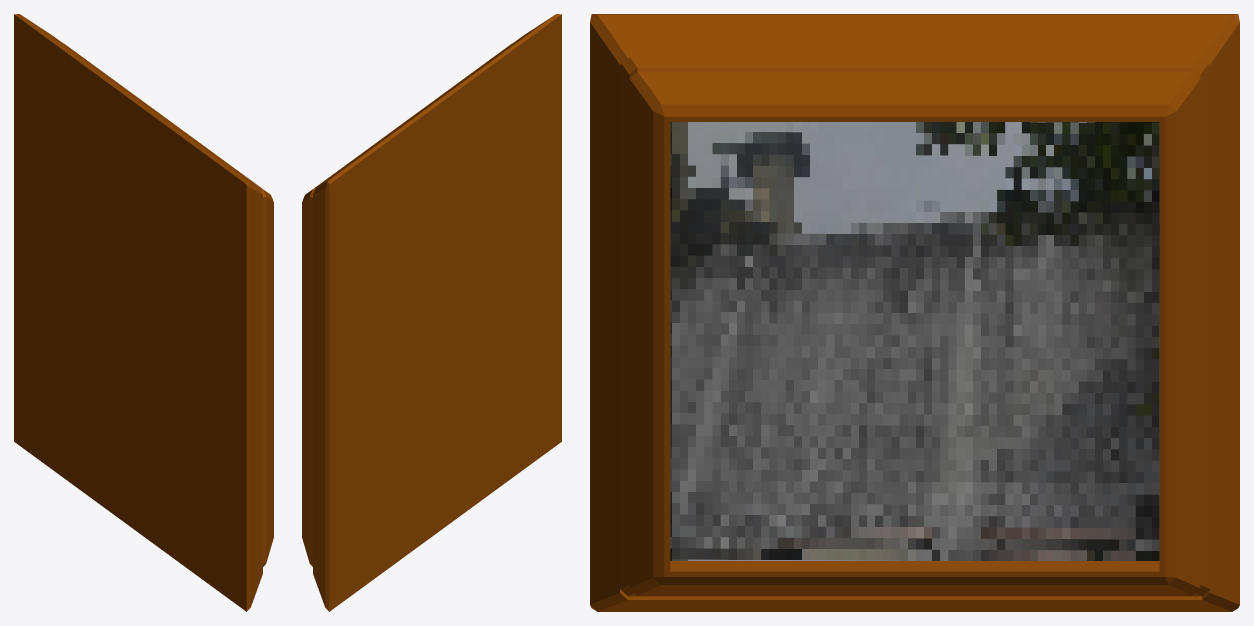
The model's file is Image_WaterfallDam.glb.
3 renders of one model, left to right at view 1: azimuth 30°, elevation 25°; view 2: azimuth 150°, elevation 25°; view 3: azimuth 270°, elevation 25°, orthographic. The views are drawn at different scales.
Parts seen in each view (by area): view 1: Plane; view 2: Plane; view 3: Plane.
Part boxes in pixels (box(x1,y1,x2,y2)): Plane: box(14, 14, 273, 611); Plane: box(302, 14, 561, 611); Plane: box(590, 14, 1239, 611).
Size of the model in its own units: 0.0513 by 0.3996 by 0.3942.
Materials: 2 (1 with a texture image).
